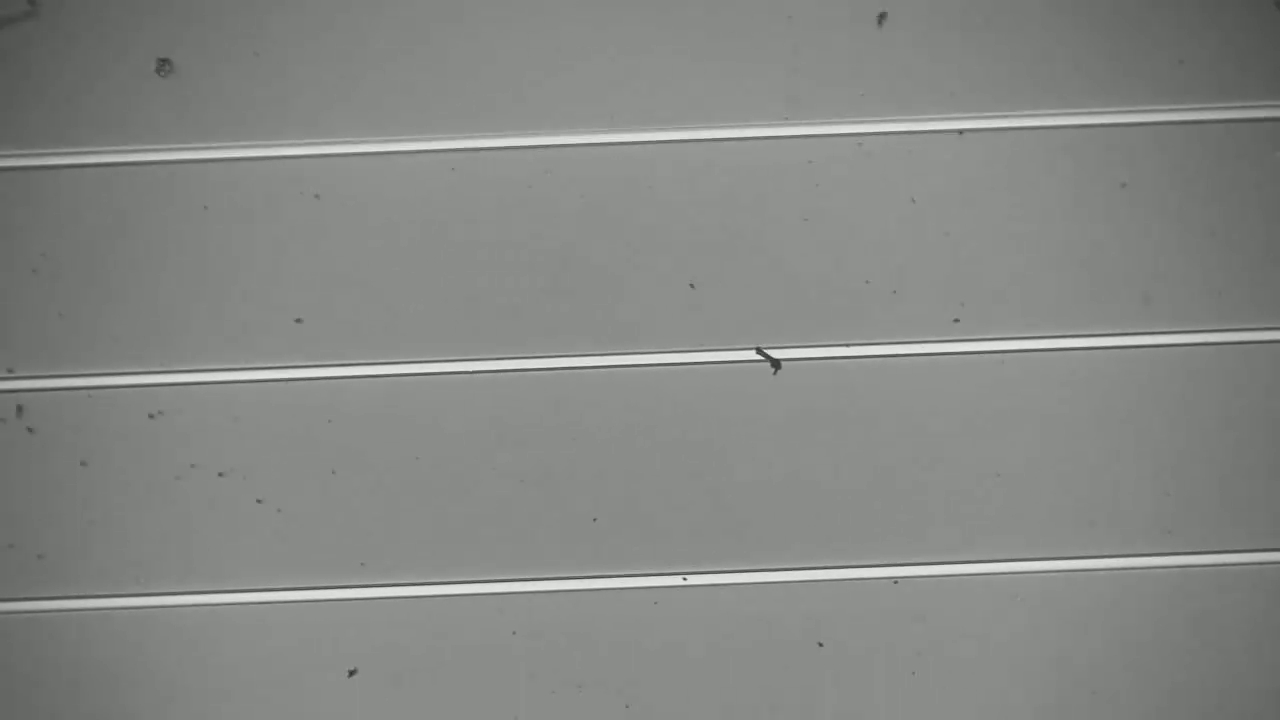stains_enbedded: (746, 328, 800, 383)
